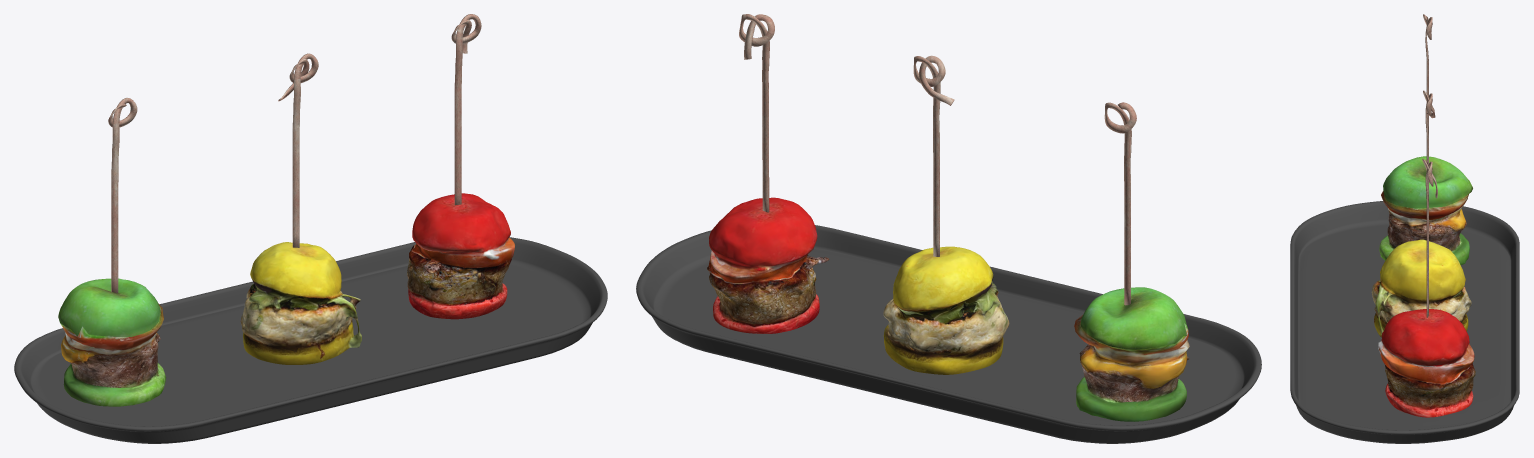
File: burgers-draco.glb
3 views of the same model, side by side, from view 1: azimuth 30°, elevation 25°; view 2: azimuth 150°, elevation 25°; view 3: azimuth 270°, elevation 25° (orthographic). The views are drawn at different scales.
Parts seen in each view (by area): view 1: geo_object_high_07.001, Sphere002.001, Sphere001.001, Burguers, geo_object_high_06.003; view 2: geo_object_high_07.001, Sphere001.001, Burguers, Sphere002.001, geo_object_high_06.003; view 3: geo_object_high_07.001, Burguers, Sphere001.001, Sphere002.001, geo_object_high_06.003.
Part boxes in pixels (x1,y1,x2,y2): geo_object_high_07.001: (14,237,607,443); Sphere002.001: (240,242,361,364); Sphere001.001: (58,278,166,406); Burguers: (407,193,514,319); geo_object_high_06.003: (108,14,481,293); geo_object_high_07.001: (636,225,1261,443); Sphere001.001: (1074,287,1189,421); Burguers: (707,197,829,333); Sphere002.001: (883,246,1009,374); geo_object_high_06.003: (739,14,1136,305); geo_object_high_07.001: (1290,201,1519,443); Burguers: (1378,309,1475,417); Sphere001.001: (1379,156,1472,264); Sphere002.001: (1371,239,1471,337); geo_object_high_06.003: (1422,14,1437,317).
Size of the model in its own units: 1.15 by 0.5812 by 0.4806.
Materials: 5 (5 with a texture image).
